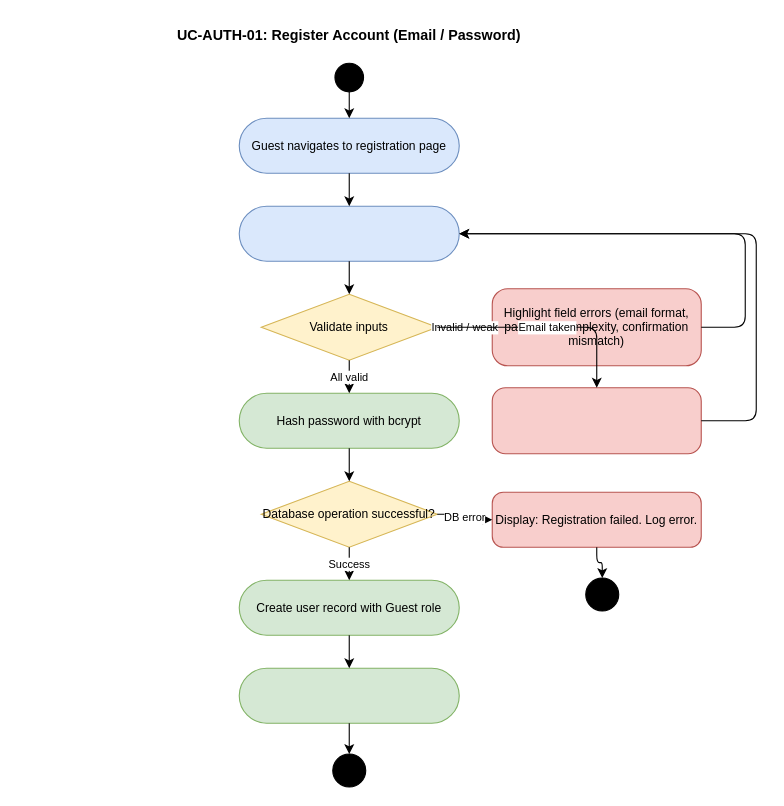
The diagram is 784 pixels wide and 806 high, and some of its shapes have lost their labels. The shapes that lost their labels are listed below. From the top down, each one's centre as x and y in pixels, then its label:
the point at 348,233: Guest enters name, email, password & confirmation
the point at 596,420: Display error: Email already registered — suggest Forgot Password
the point at 348,695: Display success message & redirect to login page
